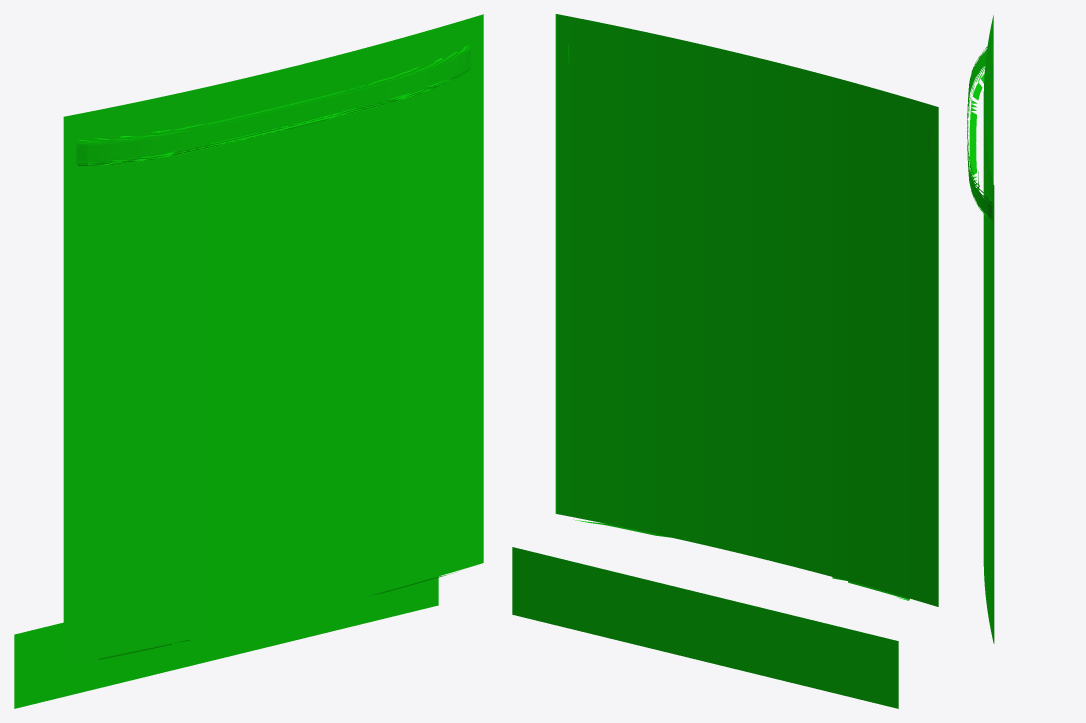
Rendered from pred_area.obj.
3 renders of one model, left to right at view 1: azimuth 30°, elevation 25°; view 2: azimuth 150°, elevation 25°; view 3: azimuth 270°, elevation 25°, orthographic. The views are drawn at different scales.
Size of the model in its own units: 1.05 by 1.48 by 0.2669.
